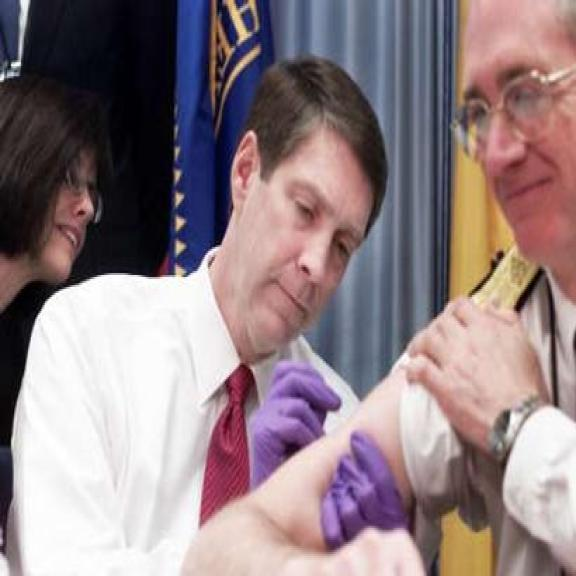face: (230, 102, 380, 359), (463, 0, 576, 267), (38, 130, 101, 295)
